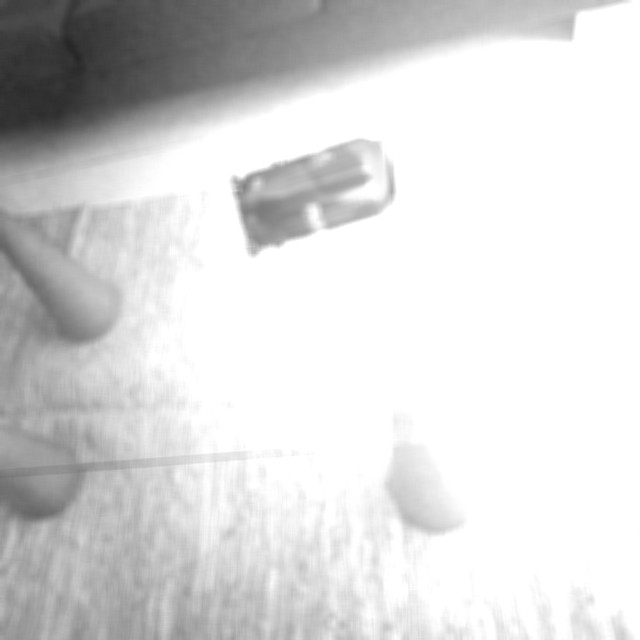schweppes: (213, 101, 401, 282)
